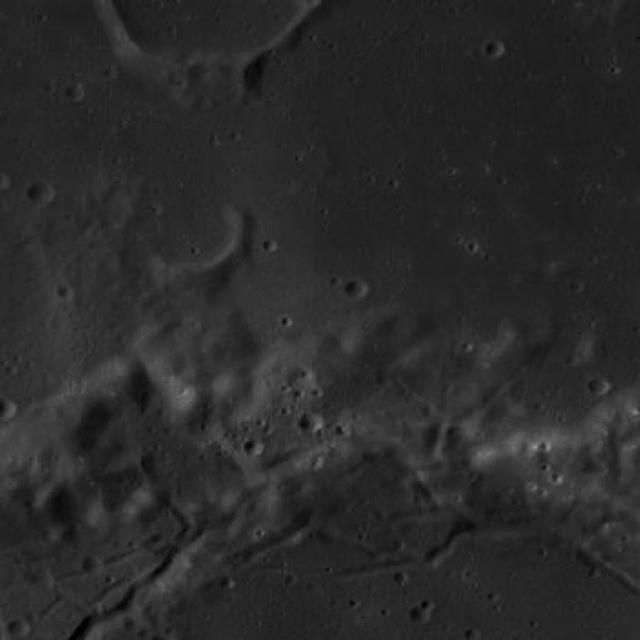crater: (494, 338, 620, 448), (142, 184, 240, 270), (126, 366, 192, 424), (44, 477, 104, 531), (98, 465, 152, 513), (120, 238, 162, 277), (85, 394, 128, 432), (70, 424, 108, 458), (321, 330, 354, 359), (378, 311, 410, 340), (202, 368, 230, 392), (488, 398, 514, 422), (27, 181, 53, 204), (286, 474, 311, 496), (242, 378, 266, 400), (298, 412, 322, 432), (31, 569, 54, 589), (447, 424, 470, 444), (140, 452, 162, 472), (138, 391, 160, 411), (172, 360, 194, 380), (81, 556, 102, 576), (6, 619, 28, 638), (345, 279, 367, 298), (588, 377, 610, 395), (618, 430, 640, 448), (244, 438, 264, 456), (0, 397, 15, 420), (144, 534, 164, 551), (408, 606, 428, 623), (484, 41, 504, 58), (55, 283, 74, 300), (123, 616, 142, 632)
